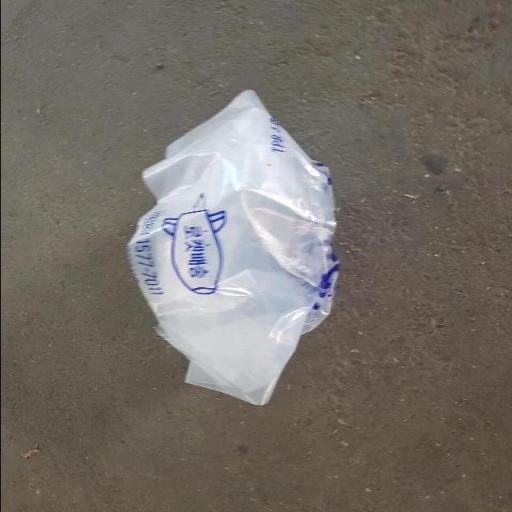plastic-bag: (126, 89, 339, 407)
